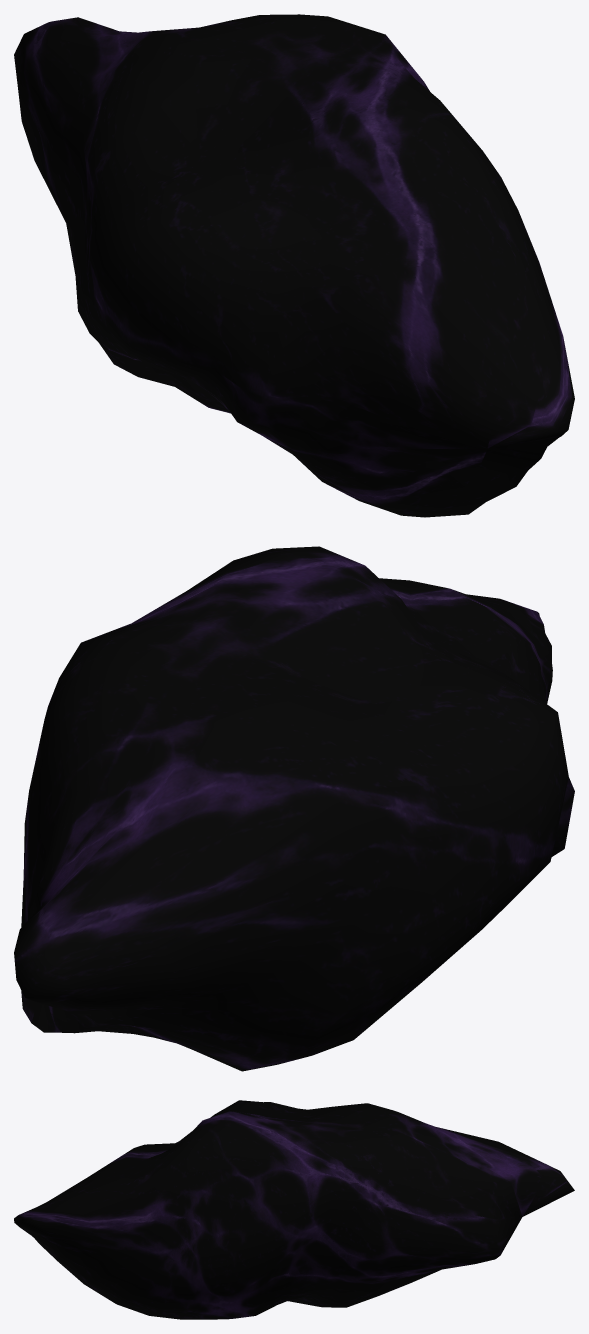
File: goo_3d.fbx
3 renders of one model, top to bottom at view 1: azimuth 30°, elevation 25°; view 2: azimuth 150°, elevation 25°; view 3: azimuth 270°, elevation 25°, orthographic. The views are drawn at different scales.
Parts seen in each view (by area): view 1: goo_low; view 2: goo_low; view 3: goo_low.
Boxes of the visible parts, <box> form: goo_low: <box>14,14,574,517</box>; goo_low: <box>14,546,574,1071</box>; goo_low: <box>14,1100,574,1319</box>.
Bounding box in the file's own units: 147 × 135 × 335.
Materials: 1 (1 with a texture image).
